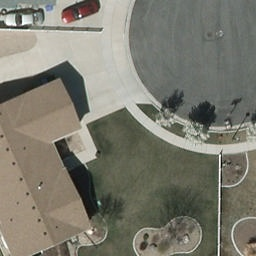car: (57, 0, 103, 26), (1, 9, 44, 30)
